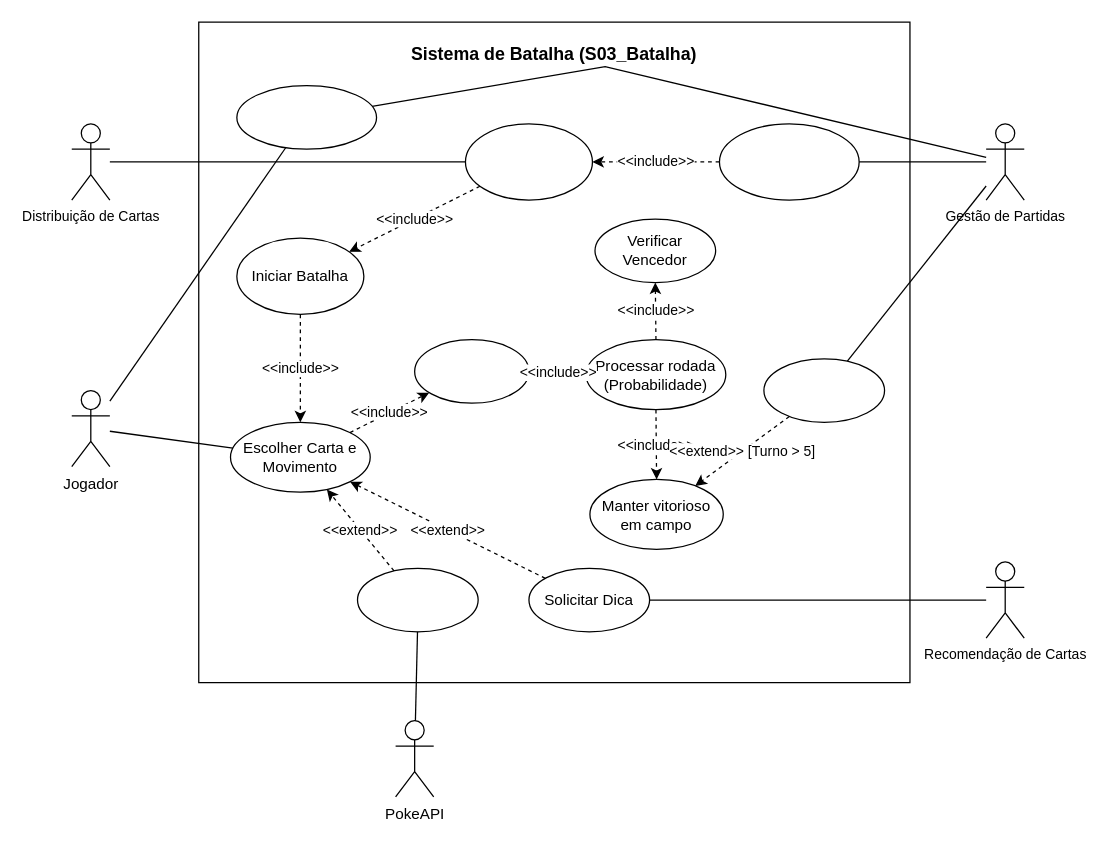
Some shapes in this 1107 by 846 pixel diagram are drawn without their labels. Each missing label, with the box of its shape:
Analisar Carta: (356, 567, 478, 632)
Jogar Carta: (413, 338, 529, 403)
Notificar o resultado: (763, 358, 885, 422)
Receber Cartas do Jogador: (464, 123, 592, 200)
Receber dados dos jogadores: (718, 123, 859, 200)
Solicitar Batalha: (236, 84, 377, 149)
